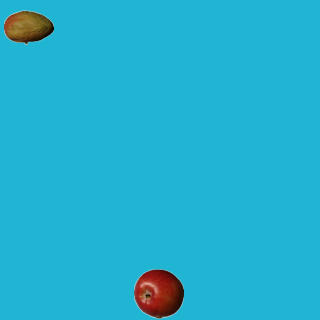Apple Braeburn: (133, 268, 183, 318)
Papaya: (3, 2, 53, 52)
